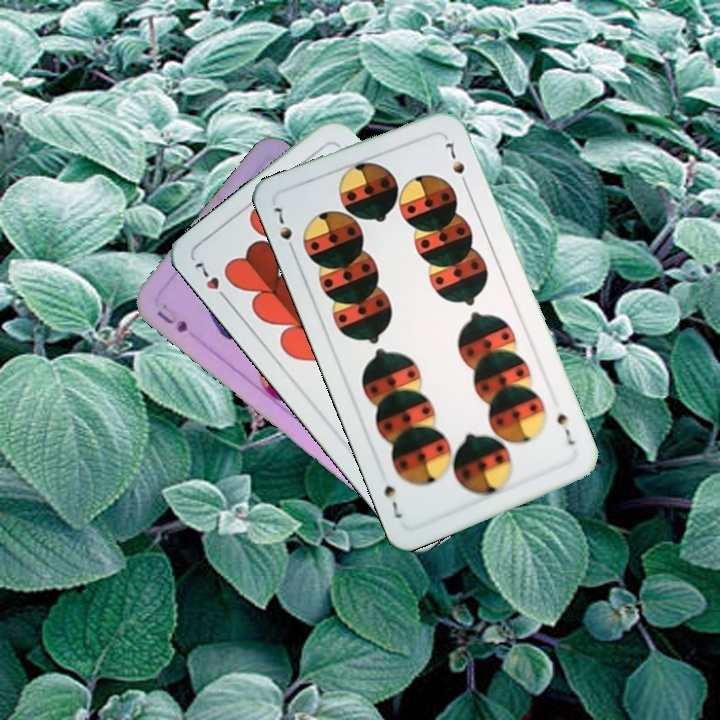H7: (190, 258, 233, 306)
S7: (270, 202, 298, 257), (552, 409, 579, 448)
SU: (152, 307, 190, 336)
